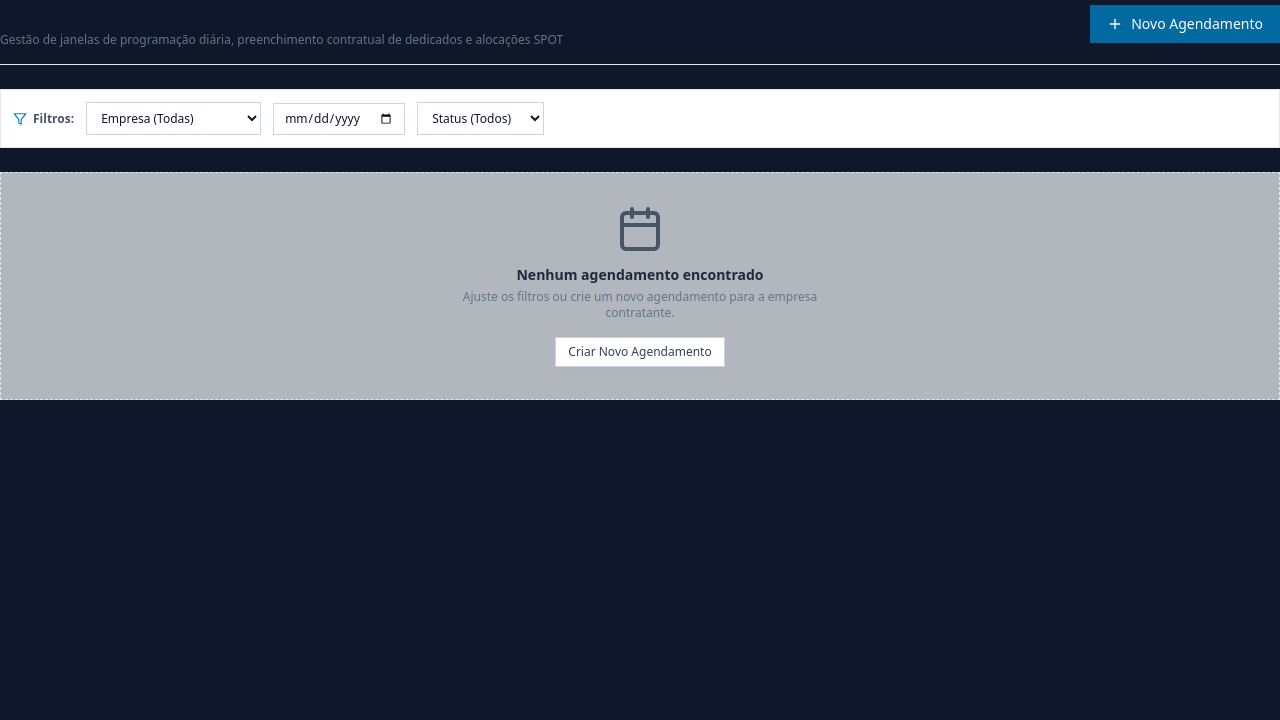
Suíte de Testes da Fase 4.2 — Módulos Operacionais e Interações Críticas › deve abrir o drawer de novo agendamento e preencher o formulário
The width and height of the screenshot is (1280, 720).
Expected: the heading "Nenhum agendamento encontrado" is shown, [516,265,764,285]
Click the button "Novo Agendamento". click: (1185, 24)
box: [1090,5,1279,43]
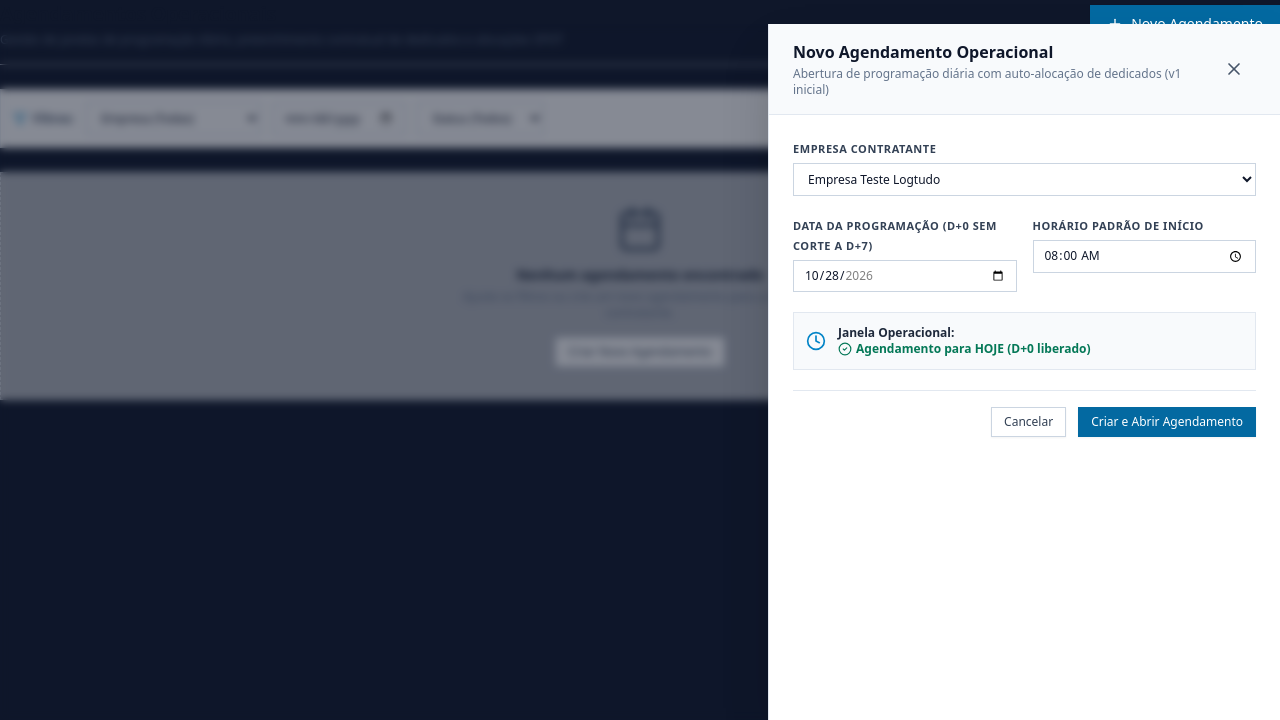
Expected: the heading "Novo Agendamento Operacional" is shown, [793,41,1053,63]
